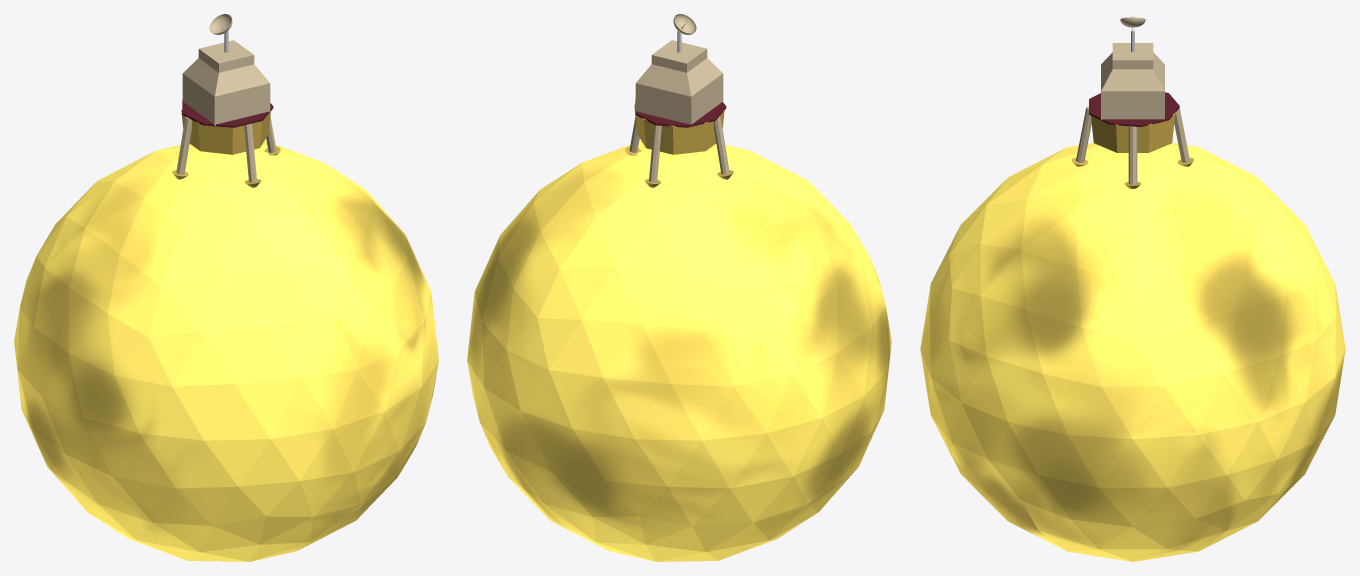
The model's file is lowpoly_moon.glb.
3 renders of one model, left to right at view 1: azimuth 30°, elevation 25°; view 2: azimuth 150°, elevation 25°; view 3: azimuth 270°, elevation 25°, orthographic.
Visible parts, largest first — view 1: Icosphere, Cube.001, Cube, Cylinder.004; view 2: Icosphere, Cube.001, Cube, Cylinder.004; view 3: Icosphere, Cube.001, Cube, Cylinder.004, Cylinder.
Part boxes in pixels (x1=…): Icosphere: x1=14, y1=141, x2=438, y2=561; Cube.001: x1=182, y1=40, x2=270, y2=125; Cube: x1=181, y1=109, x2=270, y2=154; Cylinder.004: x1=182, y1=99, x2=273, y2=127; Icosphere: x1=467, y1=141, x2=891, y2=561; Cube.001: x1=635, y1=40, x2=723, y2=124; Cube: x1=634, y1=104, x2=724, y2=154; Cylinder.004: x1=635, y1=99, x2=726, y2=127; Icosphere: x1=920, y1=143, x2=1345, y2=561; Cube.001: x1=1101, y1=43, x2=1164, y2=120; Cube: x1=1091, y1=99, x2=1175, y2=152; Cylinder.004: x1=1089, y1=92, x2=1179, y2=127; Cylinder: x1=1128, y1=126, x2=1137, y2=184.
Size of the model in its own units: 2 by 2.73 by 2.
Materials: 5 (1 with a texture image).
